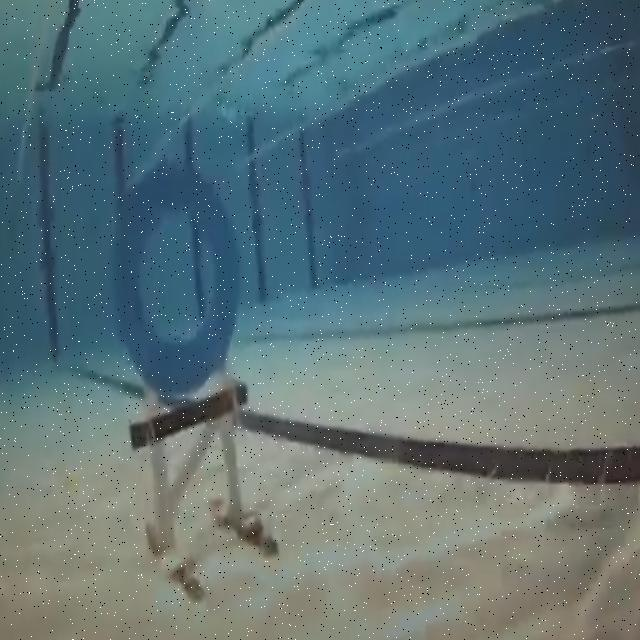Circle: (110, 152, 243, 390)
